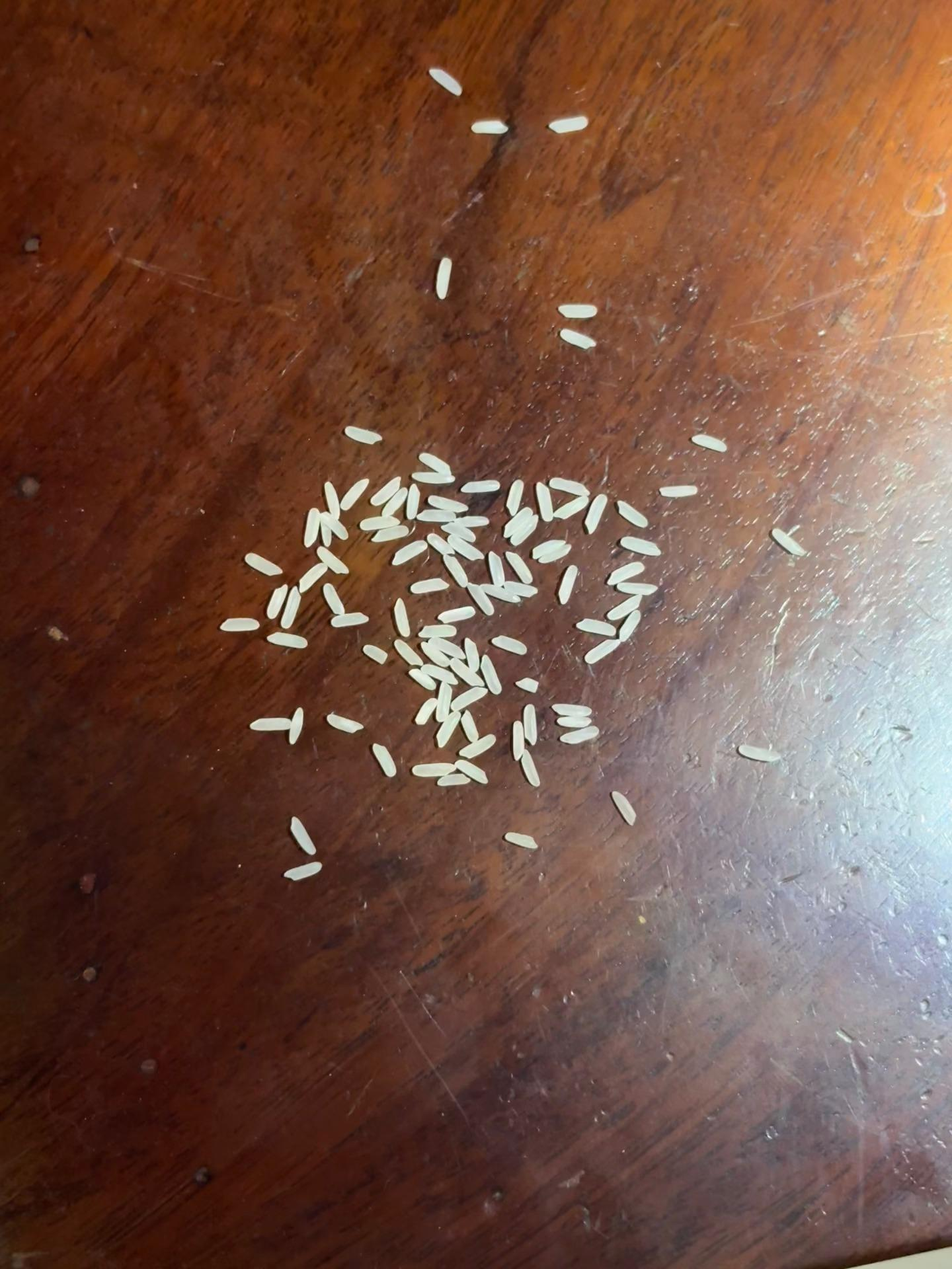Rice-th-y-nh: (771, 528, 808, 558), (449, 657, 484, 688), (428, 66, 463, 97), (502, 507, 534, 539), (290, 816, 316, 855), (584, 494, 609, 534), (447, 534, 484, 561), (370, 476, 402, 507), (340, 478, 370, 511), (435, 710, 461, 748), (505, 550, 534, 584), (432, 682, 456, 723), (506, 720, 530, 761), (611, 790, 638, 826), (317, 546, 349, 576), (298, 562, 328, 594), (479, 655, 503, 695), (467, 582, 495, 616), (420, 662, 458, 687), (442, 553, 469, 588), (607, 594, 642, 621), (244, 553, 283, 577), (585, 638, 621, 664), (451, 685, 487, 711), (459, 734, 496, 759), (534, 482, 557, 522), (455, 758, 489, 785), (419, 452, 454, 478), (738, 743, 781, 764), (411, 760, 456, 780), (557, 565, 580, 604), (616, 500, 648, 528), (607, 562, 644, 586), (426, 637, 466, 659), (301, 508, 323, 548), (392, 540, 427, 565), (482, 582, 520, 605), (510, 515, 539, 545), (393, 639, 424, 667), (381, 487, 408, 519), (441, 520, 477, 544), (281, 588, 302, 629), (520, 704, 541, 745), (519, 750, 542, 787), (372, 743, 397, 777), (553, 496, 589, 519), (620, 536, 661, 556), (549, 114, 588, 135), (321, 512, 349, 541), (561, 725, 599, 746), (322, 583, 346, 616), (491, 634, 527, 656), (421, 642, 451, 668), (549, 477, 590, 496), (267, 631, 308, 650), (471, 117, 508, 138), (266, 584, 288, 619), (618, 610, 642, 642), (359, 514, 399, 533), (560, 328, 596, 349), (536, 543, 572, 564), (435, 257, 453, 299), (577, 618, 616, 637), (393, 598, 412, 637), (327, 714, 364, 734), (487, 551, 507, 587), (505, 480, 525, 516), (416, 506, 456, 524), (345, 426, 382, 445), (285, 862, 322, 881), (287, 707, 306, 744), (428, 495, 467, 513), (410, 577, 449, 595), (551, 701, 592, 718), (371, 525, 409, 543), (439, 605, 475, 624), (504, 579, 538, 599), (460, 711, 481, 743), (692, 434, 727, 453), (532, 539, 567, 558), (324, 481, 341, 520), (461, 478, 500, 495), (616, 581, 657, 597), (414, 698, 438, 725), (462, 638, 481, 672), (427, 533, 455, 556), (412, 470, 454, 485), (505, 831, 538, 850), (220, 617, 259, 633), (409, 668, 436, 691), (250, 717, 291, 732), (405, 484, 422, 519), (557, 713, 592, 730), (559, 303, 596, 319), (659, 484, 698, 499), (419, 623, 457, 638), (331, 612, 368, 627), (437, 772, 470, 788), (362, 644, 388, 664), (453, 515, 489, 528), (319, 519, 333, 547), (516, 677, 539, 694)
